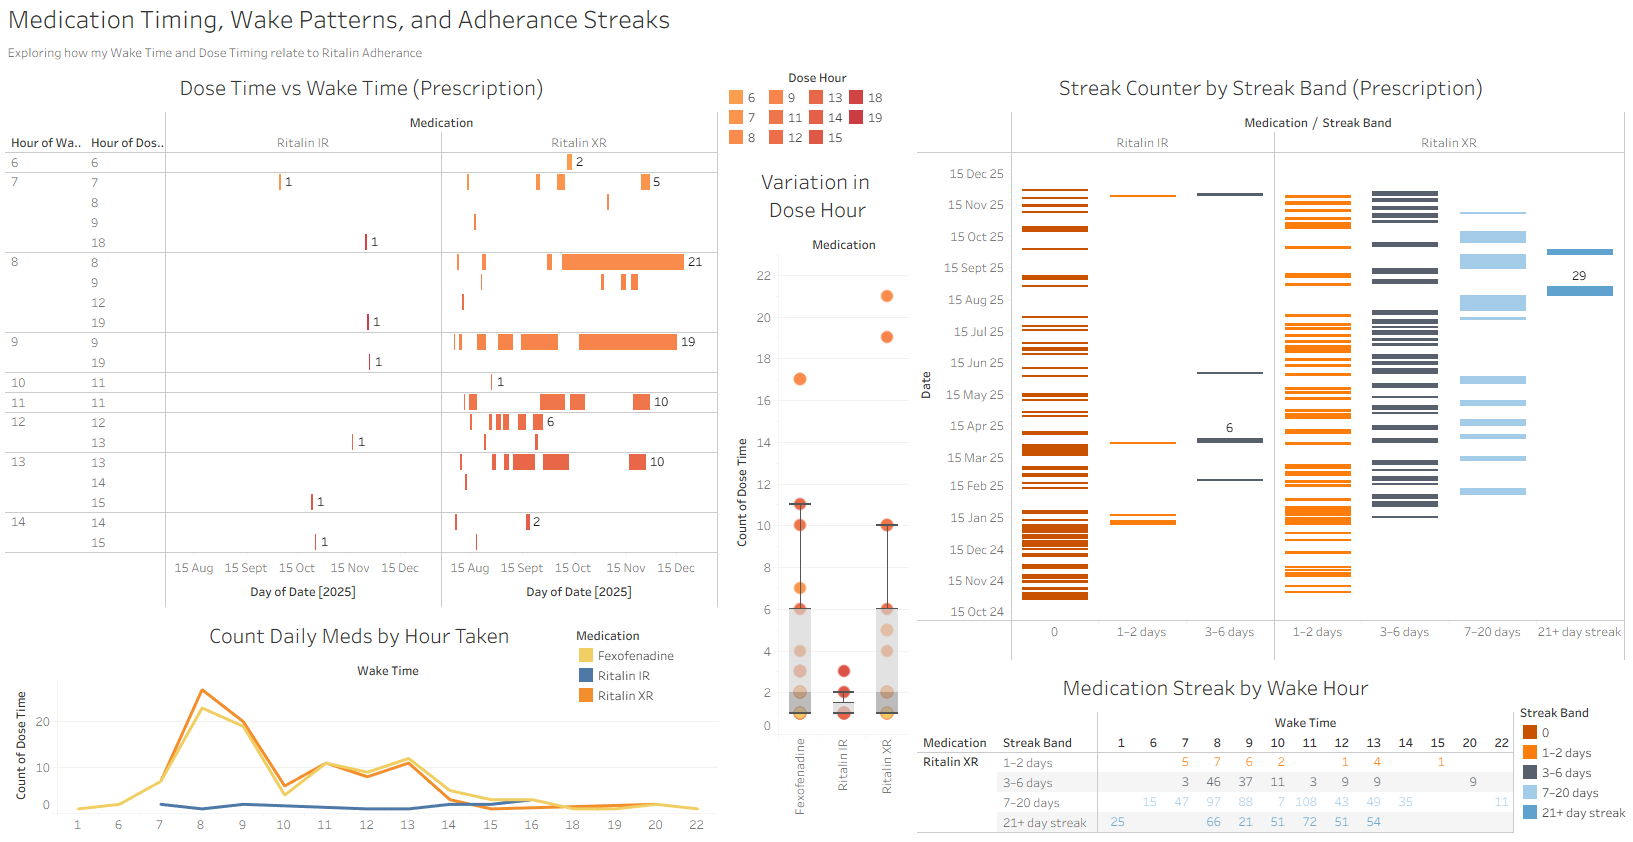

What the dashboard file says about the page in this screenshot:
{"tool":"tableau","page":{"name":"Medication Timing, Wake Patterns, and Adherance Streaks","canvas":[1000,1000],"units":"permille","ordinal":1},"visuals":[{"type":"title","box":[4.9,9.3,990.3,49.1]},{"type":"text","box":[4.9,58.4,990.3,29.2]},{"type":"worksheet","title":"Prescribed Medication by Time Taken vs Hour of Wake (Running Total)","mark":"Automatic","rows":["Wake","Time"],"cols":["Medication","date"],"box":[4.9,87.6,438.5,640.1]},{"type":"legend","title":"Prescribed Medication by Time Taken vs Hour of Wake (Running Total)","param":"[federated.1y5qkpp1oaomdy1ampd2i1o2cf4o].[hr:Time:ok]","box":[443.4,87.6,116.2,109.8]},{"type":"worksheet","title":"Prescription Medication Streak Counter by Streak Band","mark":"Automatic","rows":["date"],"cols":["Medication","Calculation_2435884467450073093"],"box":[559.6,87.6,435.5,700.9]},{"type":"worksheet","title":"Count Daily Meds by Hour Taken (Variation)","mark":"Circle","rows":["Time"],"cols":["Medication"],"box":[443.4,197.4,116.2,793.3]},{"type":"worksheet","title":"Count Daily Meds by Hour Taken ","mark":"Automatic","rows":["Time"],"cols":["Wake"],"box":[4.9,727.8,438.5,262.9]},{"type":"legend","title":"Count Daily Meds by Hour Taken ","param":"[federated.1y5qkpp1oaomdy1ampd2i1o2cf4o].[none:Medication:nk]","box":[354.6,744.2,68.7,91.1]},{"type":"worksheet","title":"Medication Streak by Wake Hour","mark":"Automatic","rows":["Medication","Calculation_2435884467450073093"],"cols":["Wake"],"box":[559.6,788.5,435.5,202.1]},{"type":"legend","title":"Prescription Medication Streak Counter by Streak Band","param":"[federated.1y5qkpp1oaomdy1ampd2i1o2cf4o].[none:Calculation_2435884467450073093:n","box":[928.8,834.1,71.2,157.7]}]}

Visuals, with their boxes on the dashboard's canvas, which has no fixed pixel size, in thousandths of its width and height (x1, y1, x2, y2). These are canvas units, not pixel positions in the 1633x842 screenshot, which may show the page scaled, cropped or inside an application window:
title: [x1=5, y1=9, x2=995, y2=58]
text: [x1=5, y1=58, x2=995, y2=88]
"Prescribed Medication by Time Taken vs Hour of Wake (Running Total)" worksheet: [x1=5, y1=88, x2=443, y2=728]
"Prescribed Medication by Time Taken vs Hour of Wake (Running Total)" legend: [x1=443, y1=88, x2=560, y2=197]
"Prescription Medication Streak Counter by Streak Band" worksheet: [x1=560, y1=88, x2=995, y2=788]
"Count Daily Meds by Hour Taken (Variation)" worksheet (Circle marks): [x1=443, y1=197, x2=560, y2=991]
"Count Daily Meds by Hour Taken " worksheet: [x1=5, y1=728, x2=443, y2=991]
"Count Daily Meds by Hour Taken " legend: [x1=355, y1=744, x2=423, y2=835]
"Medication Streak by Wake Hour" worksheet: [x1=560, y1=788, x2=995, y2=991]
"Prescription Medication Streak Counter by Streak Band" legend: [x1=929, y1=834, x2=1000, y2=992]
